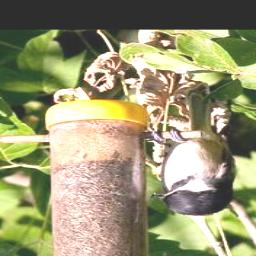Swallow: (145, 124, 239, 219)
